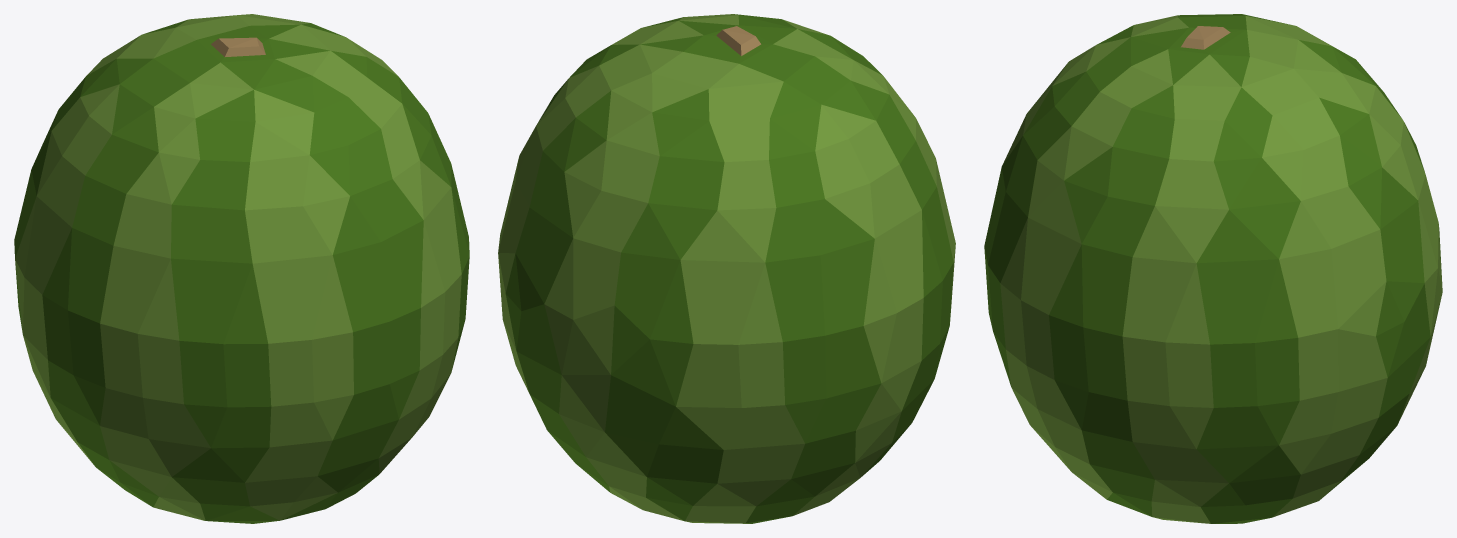
Rendered from watermelon.fbx.
3 renders of one model, left to right at view 1: azimuth 30°, elevation 25°; view 2: azimuth 150°, elevation 25°; view 3: azimuth 270°, elevation 25°, orthographic.
Parts seen in each view (by area): view 1: watermelon; view 2: watermelon; view 3: watermelon.
Part boxes in pixels (left/top/right/bottom): watermelon: left=14, top=14, right=469, bottom=523; watermelon: left=498, top=14, right=955, bottom=523; watermelon: left=984, top=14, right=1442, bottom=523.
Bounding box in the file's own units: 381 × 426 × 381.
